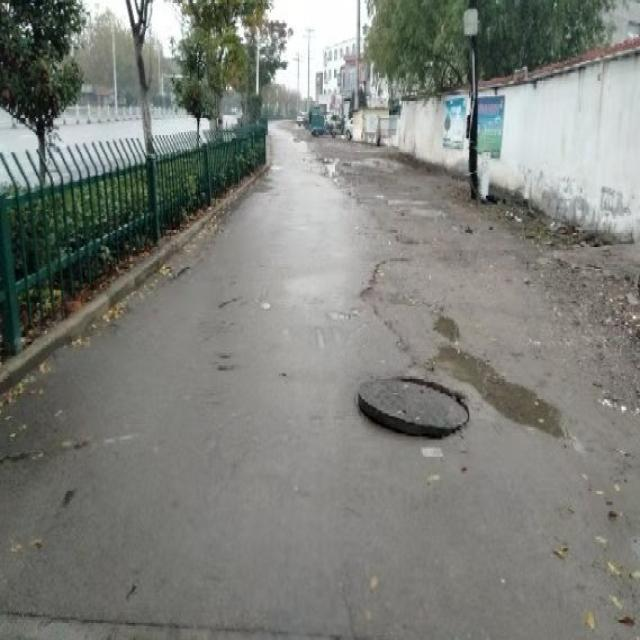Faulty: (354, 373, 468, 441)
